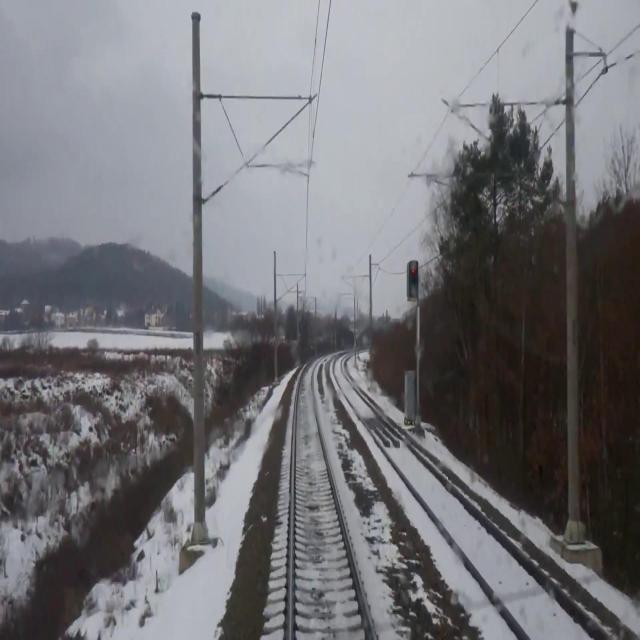rail-track: (335, 359, 606, 639), (294, 360, 372, 639)
